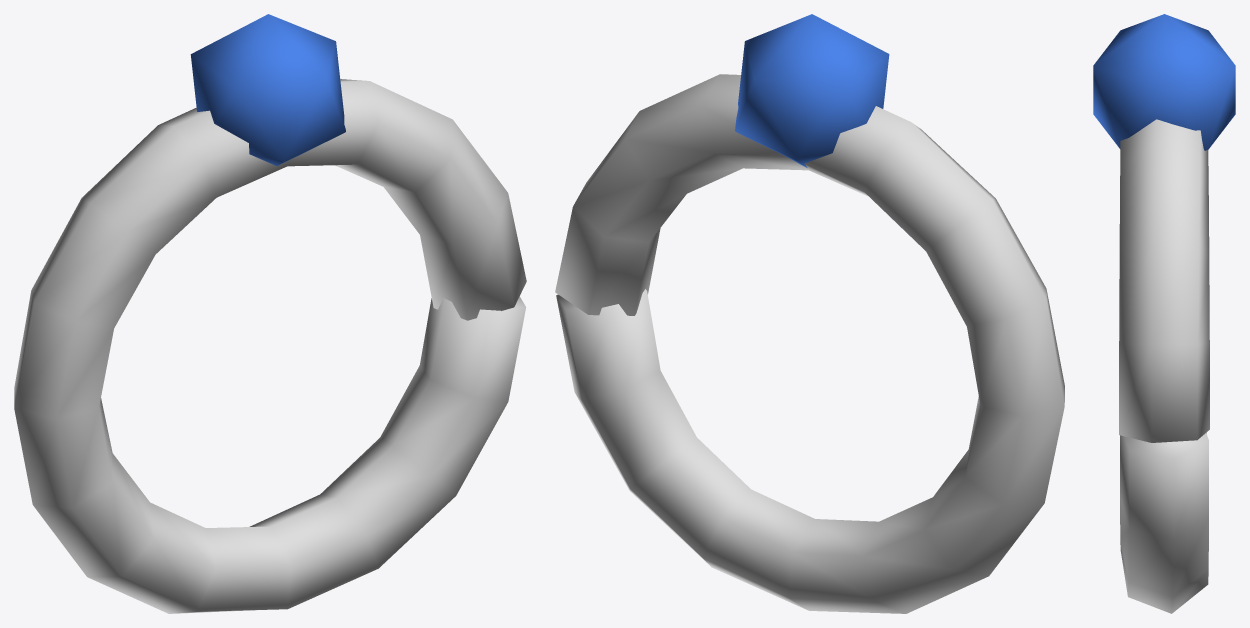
Rendered from mana_flower.glb.
3 renders of one model, left to right at view 1: azimuth 30°, elevation 25°; view 2: azimuth 150°, elevation 25°; view 3: azimuth 270°, elevation 25°, orthographic. The views are drawn at different scales.
Parts seen in each view (by area): view 1: mana_flower_v0; view 2: mana_flower_v0; view 3: mana_flower_v0.
Part boxes in pixels (x1,y1,x2,y2): mana_flower_v0: (14, 14, 526, 613); mana_flower_v0: (555, 14, 1064, 613); mana_flower_v0: (1093, 14, 1235, 613).
Size of the model in its own units: 0.1674 by 0.1889 by 0.0425.
